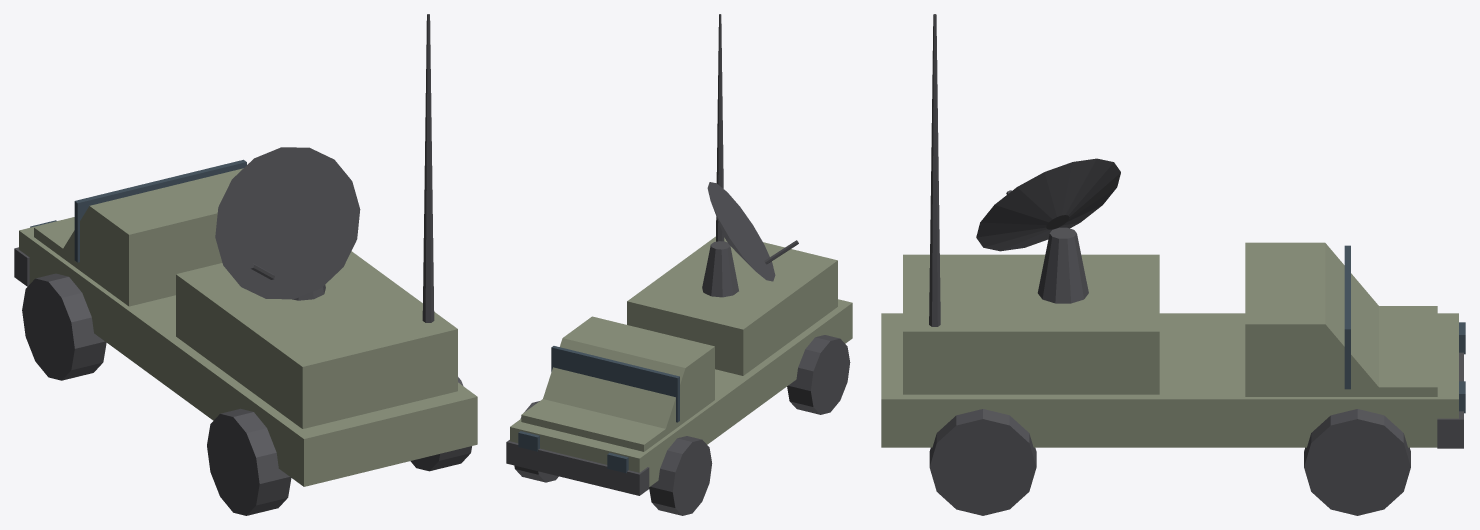
File: jammer.glb
3 renders of one model, left to right at view 1: azimuth 30°, elevation 25°; view 2: azimuth 150°, elevation 25°; view 3: azimuth 270°, elevation 25°, orthographic. The views are drawn at different scales.
Visible parts, largest first — view 1: Jammer; view 2: Jammer; view 3: Jammer.
Part boxes in pixels (x1,y1,x2,y2): Jammer: (14,14,477,515); Jammer: (506,14,852,515); Jammer: (881,14,1465,515).
Bounding box in the file's own units: 2.35 × 4.95 × 5.46.
